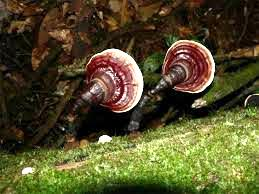Ganoderma - Fruit Body: (85, 47, 145, 115), (163, 39, 217, 95)
